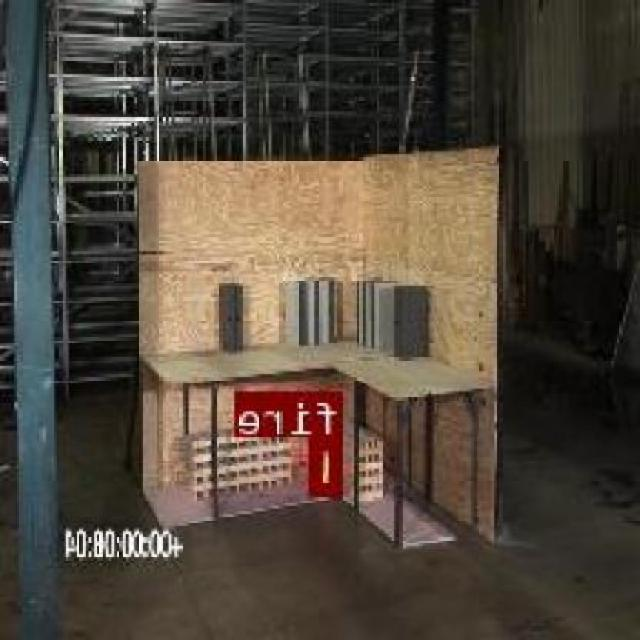Fire: (312, 434, 346, 492)
